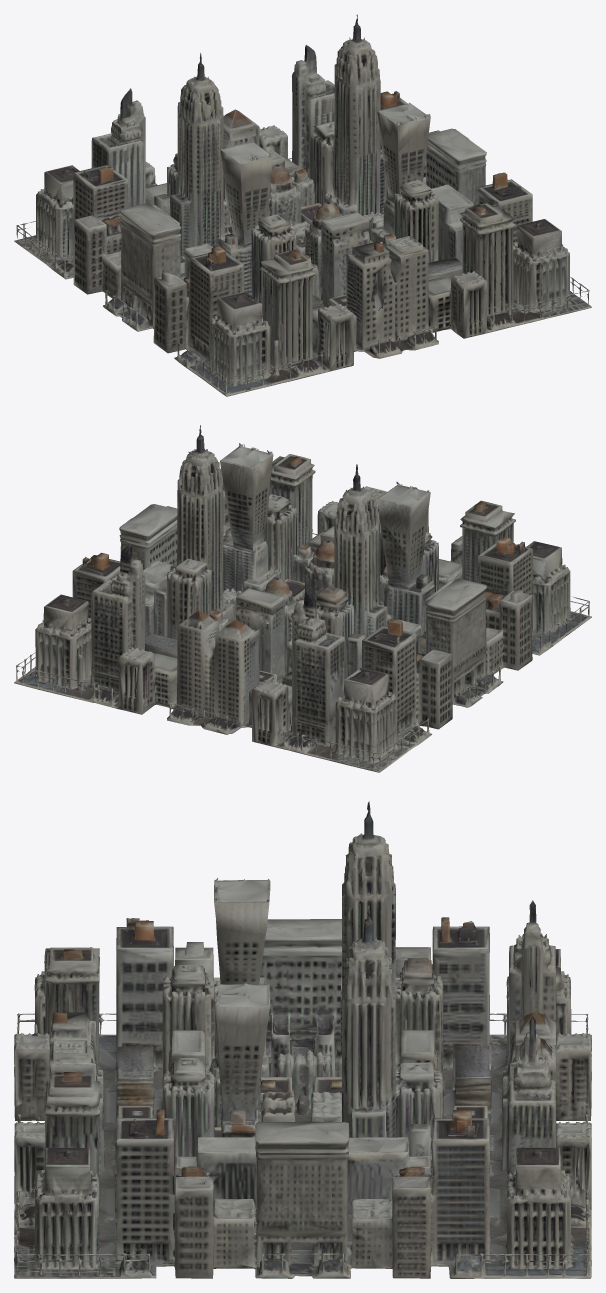
The model's file is Meshy_AI_Create_a_detailed_3D__0501213306_texture.fbx.
The picture shows the model from 3 angles, top to bottom: view 1: azimuth 30°, elevation 25°; view 2: azimuth 150°, elevation 25°; view 3: azimuth 270°, elevation 25°; orthographic projection. The views are drawn at different scales.
Visible parts, largest first — view 1: Mesh_0; view 2: Mesh_0; view 3: Mesh_0.
Boxes of the visible parts, x1,y1,x2,y2 form: Mesh_0: [14, 14, 591, 396]; Mesh_0: [14, 425, 591, 772]; Mesh_0: [14, 801, 591, 1278].
Size of the model in its own units: 191 by 111 by 191.
1 material, 1 textured.
